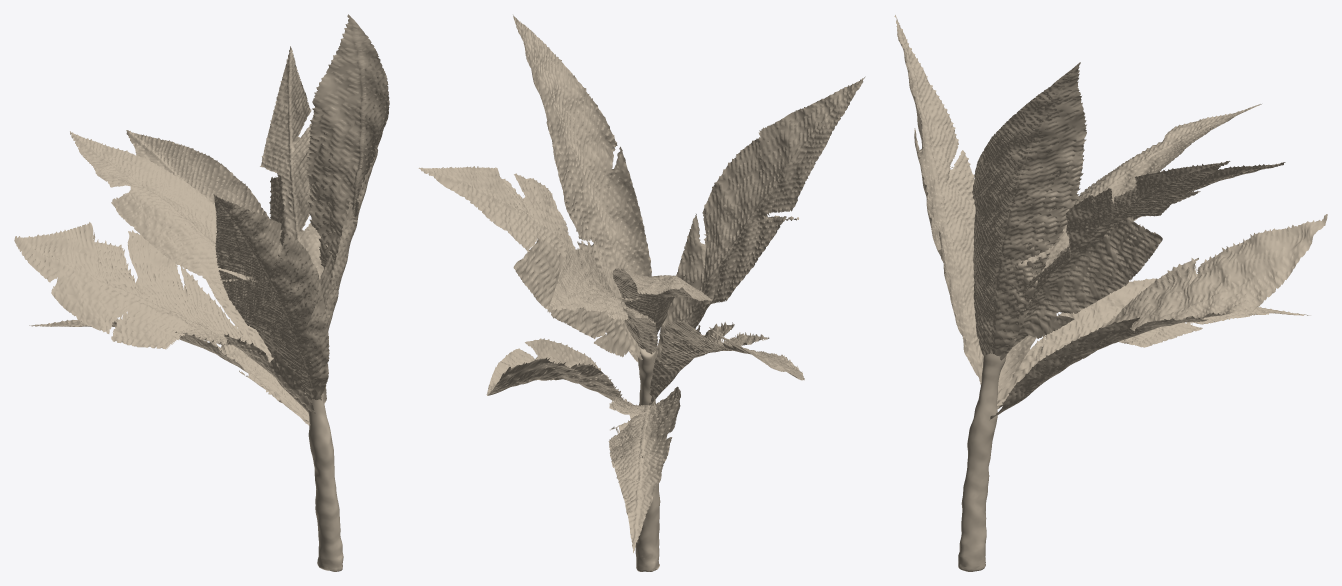
File: 3dcodebench_BananaMonocot_seed0.glb
The picture shows the model from 3 angles, left to right: view 1: azimuth 30°, elevation 25°; view 2: azimuth 150°, elevation 25°; view 3: azimuth 270°, elevation 25°; orthographic projection. The views are drawn at different scales.
Visible parts, largest first — view 1: object; view 2: object; view 3: object.
Boxes of the visible parts, x1=… form: object: x1=14, y1=14, x2=389, y2=571; object: x1=418, y1=15, x2=865, y2=571; object: x1=894, y1=15, x2=1327, y2=571.
Size of the model in its own units: 1.71 by 2.82 by 2.04.
